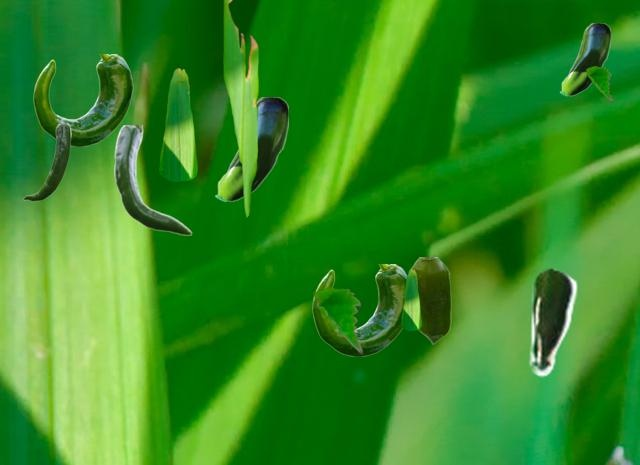green_chili: (33, 54, 132, 145), (312, 264, 406, 355), (114, 125, 191, 234), (214, 97, 287, 201), (526, 267, 577, 376), (23, 123, 70, 200), (559, 23, 609, 95), (410, 257, 450, 343)
